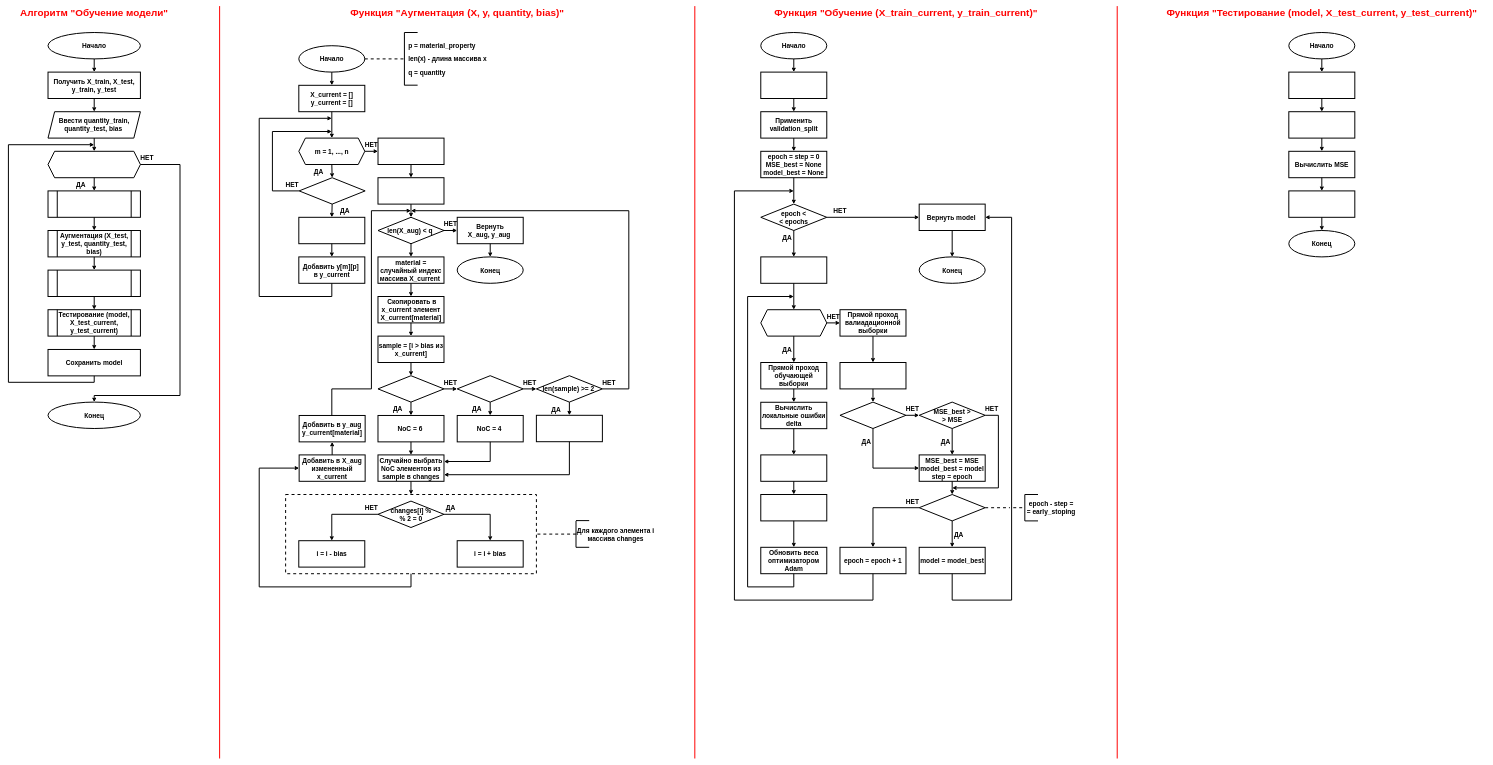
The diagram is 1493 pixels wide and 765 high, and some of its shapes have lost their labels. The centre of each missing label's shape, as x and y in pixels:
"len(sample) >= 4" goes at pixel 490 388.
"len(sample) >= 6" goes at pixel 410 388.
"material_property = 1, ..., 8" goes at pixel 94 164.
"MSE_best = = None" goes at pixel 872 415.
"NoC = 2" goes at pixel 569 428.
"y[m][p] != 0" goes at pixel 331 190.
"Аугментация (X_train, y_train, quantity_train, bias)" goes at pixel 94 204.
"Выполнить обратный проход" goes at pixel 793 468.
"Вычислить MAE" goes at pixel 1321 204.
"Вычислить MSE и MAE" goes at pixel 872 375.
"Вычислить значения градиента" goes at pixel 793 507.
"Для каждого batch" goes at pixel 793 322.
"Добавить X[m] в X_current" goes at pixel 331 230.
"Обучение (X_train_current, y_train_current)" goes at pixel 94 283.
"Перемешать и разделить выборку (batch_size)" goes at pixel 793 270.
"Получить model" goes at pixel 1321 85.
"Прямой проход для X_test_current, y_test_current" goes at pixel 1321 124.
"Скопировать в X_aug массив X_current" goes at pixel 410 151.
"Скопировать в y_aug массив y_current" goes at pixel 410 190.
"Случайно задать веса нейронам из [-0.3, 0.3]" goes at pixel 793 85.
"Условие" goes at pixel 952 507.
